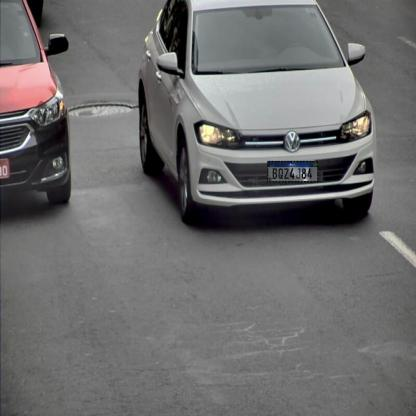PlacaM: (268, 161, 318, 182)
